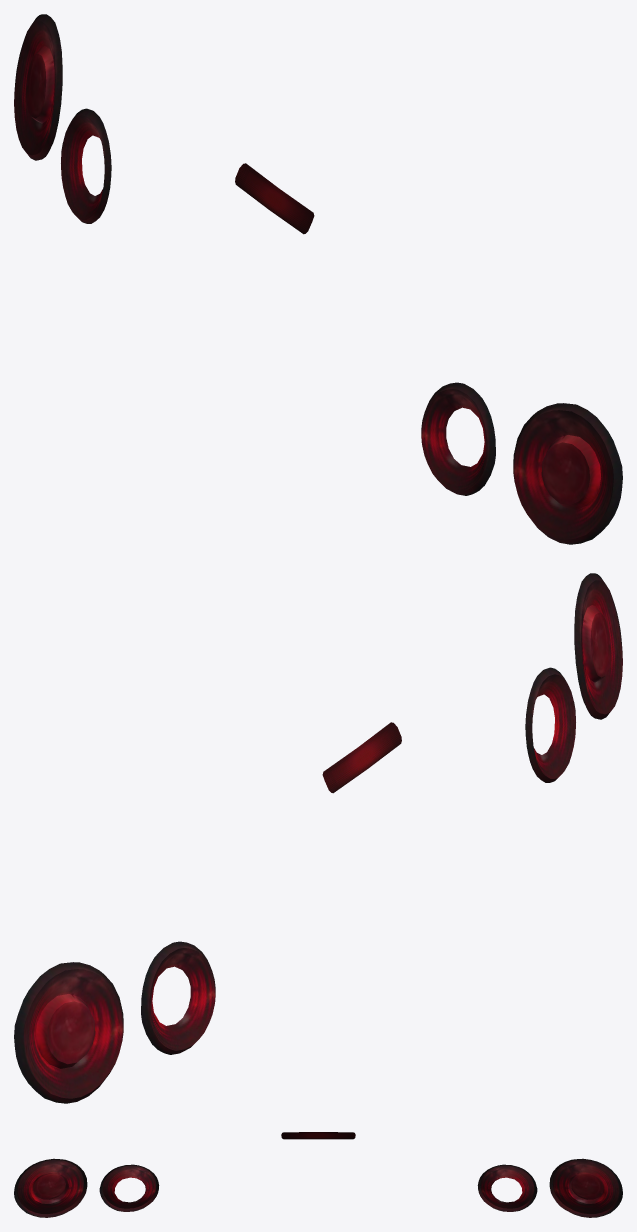
Rendered from gallo99_brakelights_ucb_lights_and_glass_0.002_lev3.glb.
The picture shows the model from 3 angles, top to bottom: view 1: azimuth 30°, elevation 25°; view 2: azimuth 150°, elevation 25°; view 3: azimuth 270°, elevation 25°; orthographic projection. The views are drawn at different scales.
Visible parts, largest first — view 1: gallo99_brakelights_ucb_lights_and_glass_0.002_lev3; view 2: gallo99_brakelights_ucb_lights_and_glass_0.002_lev3; view 3: gallo99_brakelights_ucb_lights_and_glass_0.002_lev3.
Part boxes in pixels (bbox=[...]): gallo99_brakelights_ucb_lights_and_glass_0.002_lev3: bbox=[14, 14, 622, 544]; gallo99_brakelights_ucb_lights_and_glass_0.002_lev3: bbox=[14, 573, 622, 1103]; gallo99_brakelights_ucb_lights_and_glass_0.002_lev3: bbox=[14, 1132, 622, 1217].
Bounding box in the file's own units: 0.0966 × 0.2282 × 1.51.
Materials: 1 (1 with a texture image).
